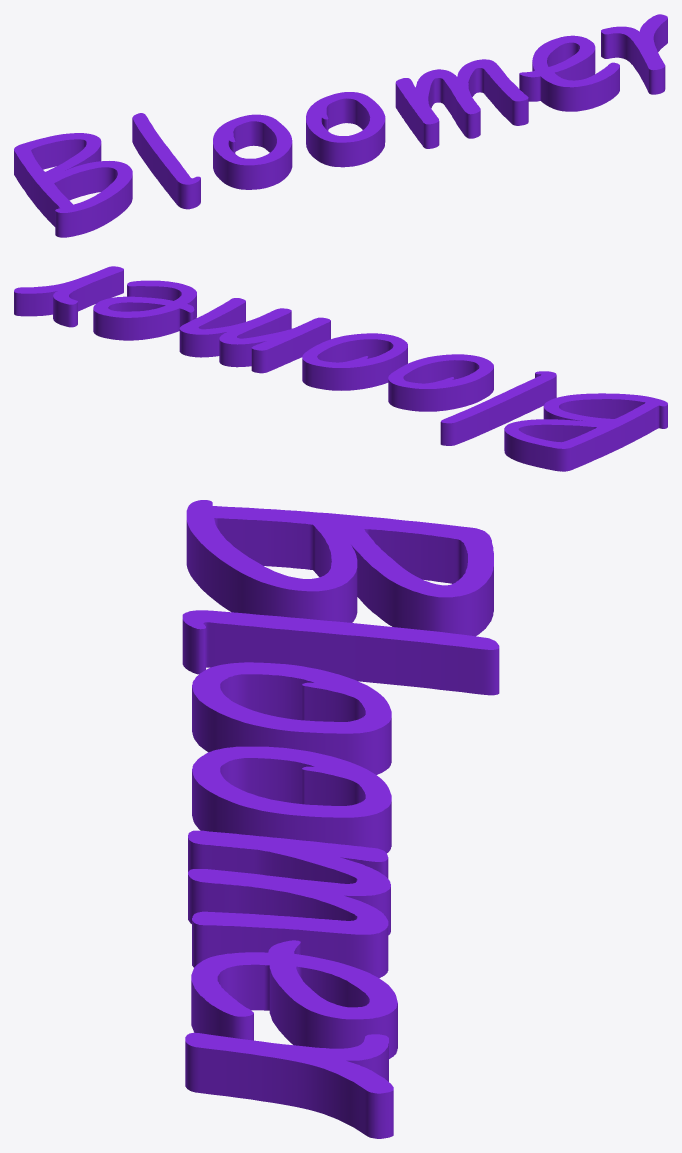
File: bloomer.glb
The picture shows the model from 3 angles, top to bottom: view 1: azimuth 30°, elevation 25°; view 2: azimuth 150°, elevation 25°; view 3: azimuth 270°, elevation 25°; orthographic projection. The views are drawn at different scales.
Parts seen in each view (by area): view 1: Text; view 2: Text; view 3: Text.
Boxes of the visible parts, x1=… form: Text: x1=14, y1=14, x2=667, y2=237; Text: x1=14, y1=266, x2=667, y2=471; Text: x1=182, y1=500, x2=499, y2=1138.
Bounding box in the file's own units: 2.81 × 0.1003 × 0.6347.
